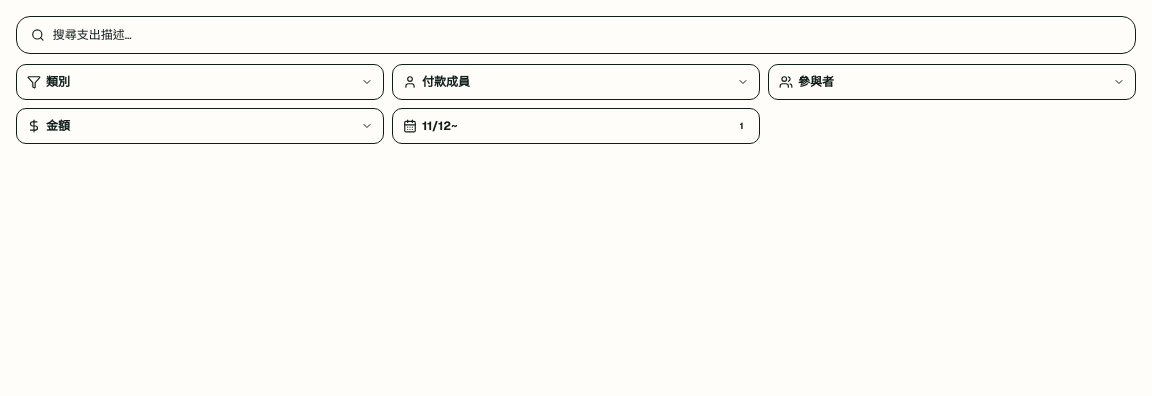
Test: ExpenseFilterBar panels › navigates the date panel months with the arrow buttons
This screenshot has width=1152, height=396.
What coordinates should you click on to do the following:
click the button named "付款日期"
I would click on:
 (440, 126)
Its box is [392,108,760,144].
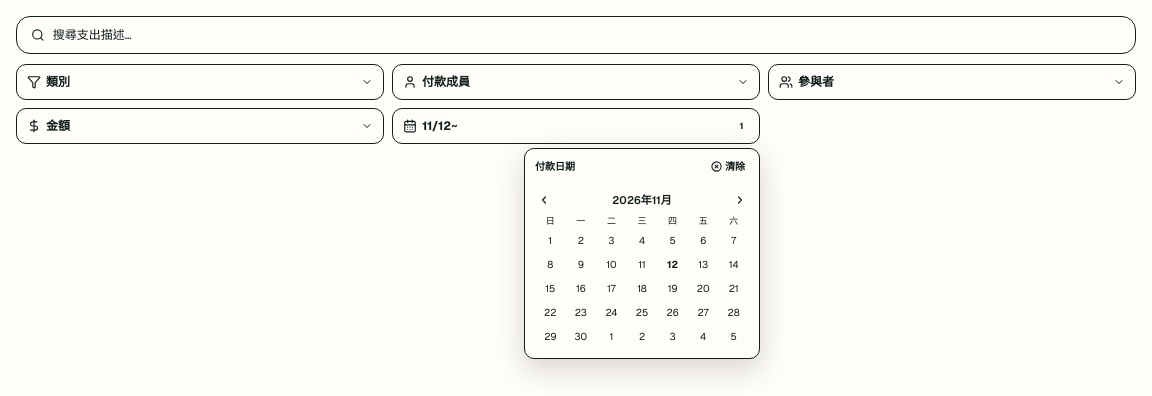
Result: the text "2026年11月" is shown at [612,192,672,208]
What coordinates should you click on to do the following:
click the button named "下個月"
I would click on:
 (740, 200)
Its box is [731,191,749,209].
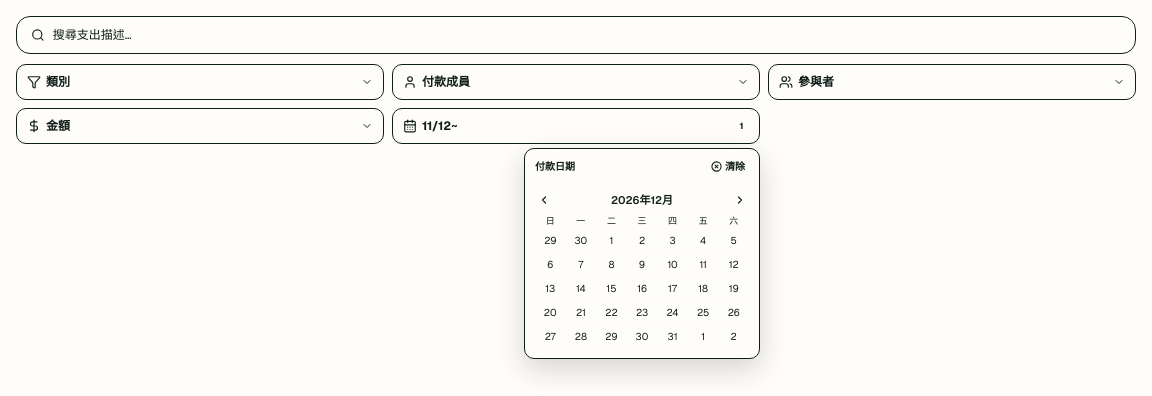
Result: the text "2026年12月" is shown at [611,192,673,208]
What coordinates should you click on to do the following:
click the button named "上個月"
I would click on:
 (544, 200)
Its box is [535,191,553,209].
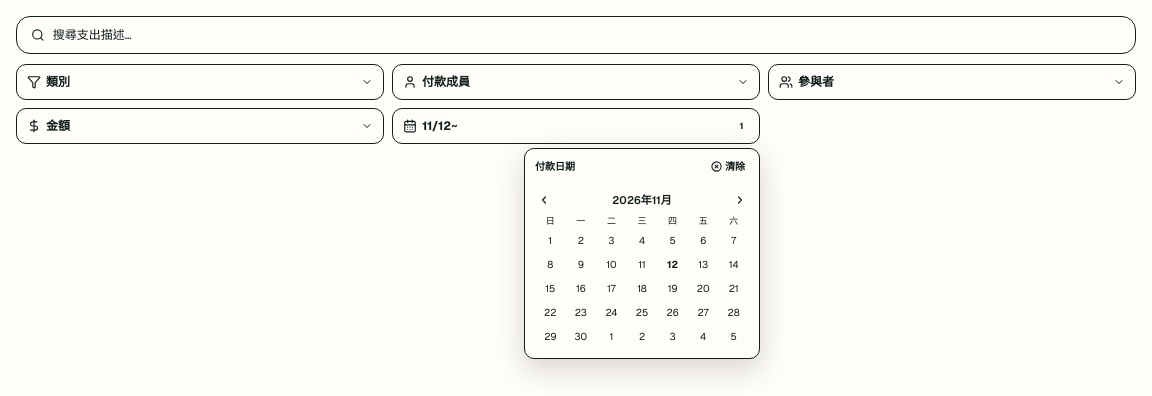
Result: the text "2026年11月" is shown at [612,192,672,208]
